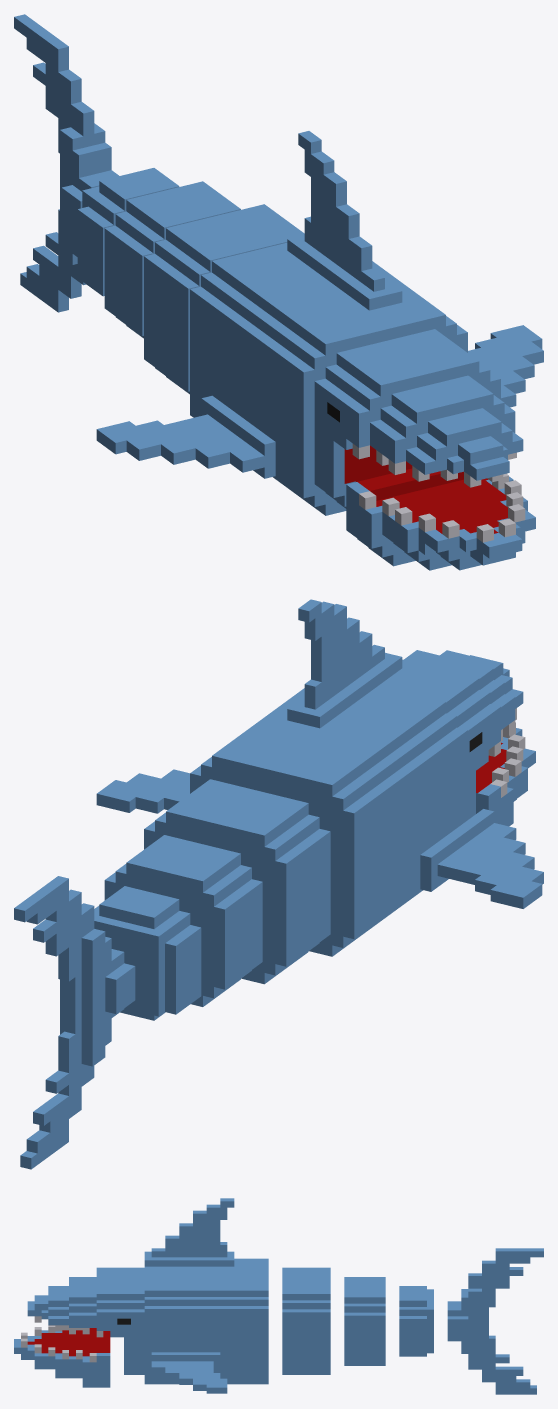
The model's file is SHARKK.fbx.
3 views of the same model, one above another, from view 1: azimuth 30°, elevation 25°; view 2: azimuth 150°, elevation 25°; view 3: azimuth 270°, elevation 25° (orthographic). The views are drawn at different scales.
Parts seen in each view (by area): view 1: Cube.005, Cube.008, Cube.001, Cube.004, Cube.007, Cube.003, Cube.006, Cube.002, Cube.009; view 2: Cube.005, Cube.004, Cube.001, Cube.003, Cube.002, Cube.007, Cube.006, Cube.008, Cube.009; view 3: Cube.005, Cube.001, Cube.004, Cube.008, Cube.003, Cube.007, Cube.002, Cube.009.
Part boxes in pixels (bbox=[...]): Cube.005: bbox=[190, 242, 523, 515]; Cube.008: bbox=[346, 468, 535, 570]; Cube.001: bbox=[14, 14, 118, 312]; Cube.004: bbox=[144, 204, 304, 394]; Cube.007: bbox=[287, 131, 402, 310]; Cube.003: bbox=[104, 181, 240, 338]; Cube.006: bbox=[96, 395, 275, 478]; Cube.002: bbox=[77, 168, 179, 296]; Cube.009: bbox=[468, 325, 543, 407]; Cube.005: bbox=[190, 650, 523, 956]; Cube.004: bbox=[144, 779, 330, 984]; Cube.001: bbox=[14, 876, 135, 1169]; Cube.003: bbox=[104, 835, 262, 1006]; Cube.002: bbox=[94, 886, 201, 1020]; Cube.007: bbox=[287, 599, 402, 728]; Cube.006: bbox=[420, 809, 543, 908]; Cube.008: bbox=[476, 722, 535, 826]; Cube.009: bbox=[96, 769, 189, 813]; Cube.005: bbox=[27, 1258, 268, 1384]; Cube.001: bbox=[447, 1248, 543, 1394]; Cube.004: bbox=[282, 1267, 330, 1374]; Cube.008: bbox=[14, 1325, 110, 1387]; Cube.003: bbox=[344, 1277, 385, 1365]; Cube.007: bbox=[144, 1198, 234, 1266]; Cube.002: bbox=[399, 1286, 433, 1356]; Cube.009: bbox=[151, 1352, 227, 1393].
Size of the model in its own units: 7700 by 3900 by 3100.
